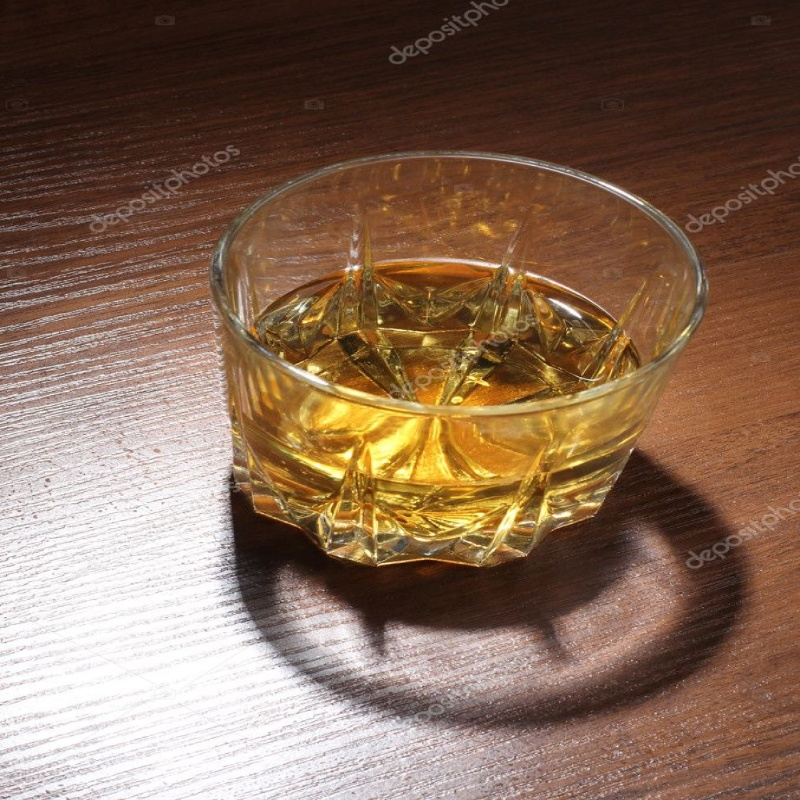whiskey: (220, 155, 700, 564)
